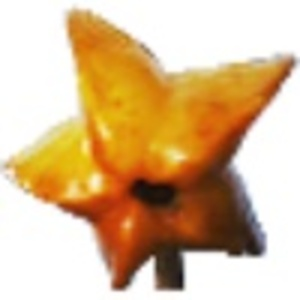carambola: (1, 6, 297, 293)
